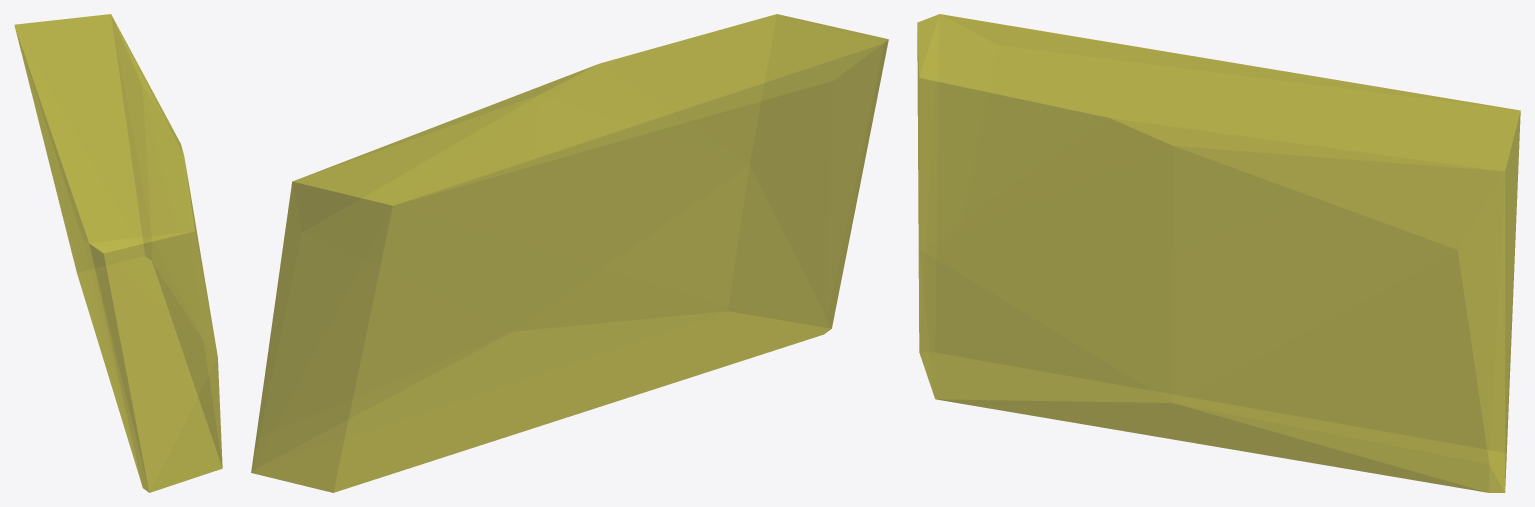
3 renders of one model, left to right at view 1: azimuth 30°, elevation 25°; view 2: azimuth 150°, elevation 25°; view 3: azimuth 270°, elevation 25°, orthographic. The views are drawn at different scales.
Visible parts, largest first — view 1: Shape_IndexedFaceSet.027_Shape_IndexedFaceSet.14703; view 2: Shape_IndexedFaceSet.027_Shape_IndexedFaceSet.14703; view 3: Shape_IndexedFaceSet.027_Shape_IndexedFaceSet.14703.
Boxes of the visible parts, x1,y1,x2,y2 form: Shape_IndexedFaceSet.027_Shape_IndexedFaceSet.14703: [14, 14, 222, 492]; Shape_IndexedFaceSet.027_Shape_IndexedFaceSet.14703: [251, 14, 888, 492]; Shape_IndexedFaceSet.027_Shape_IndexedFaceSet.14703: [917, 14, 1520, 492].
Bounding box in the file's own units: 0.0703 × 0.0593 × 0.1049.
